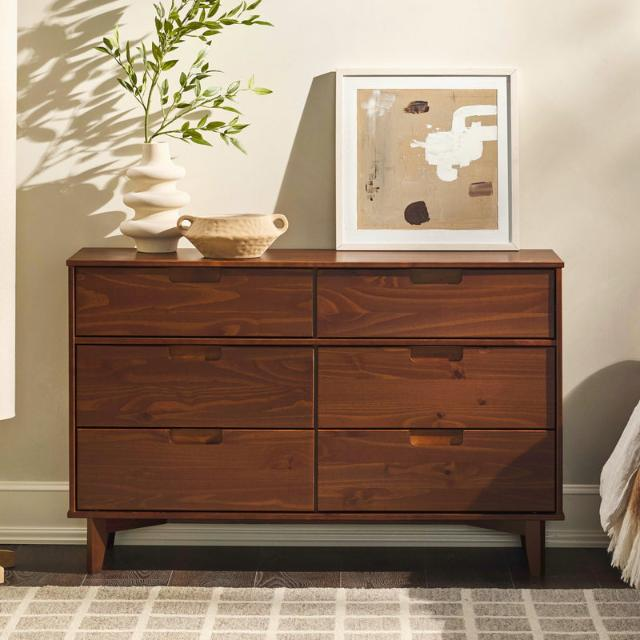dresser: (68, 248, 565, 575)
